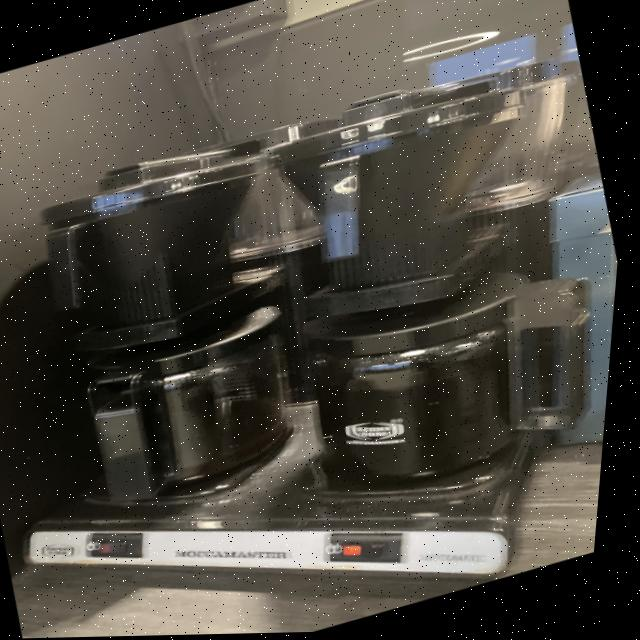coffee: (284, 259, 588, 508), (43, 298, 328, 524)
